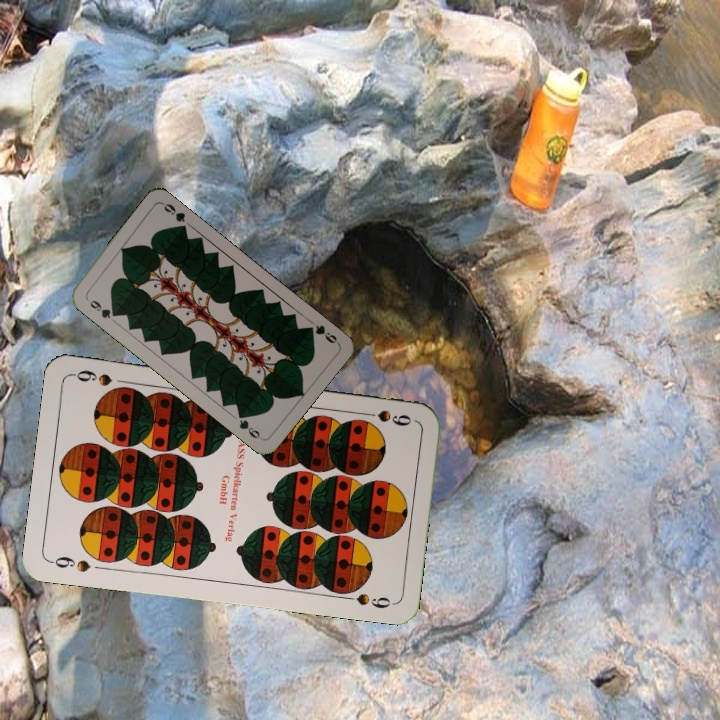G9: (302, 321, 341, 346), (86, 296, 120, 321)
S9: (356, 406, 414, 429), (46, 552, 93, 574)
